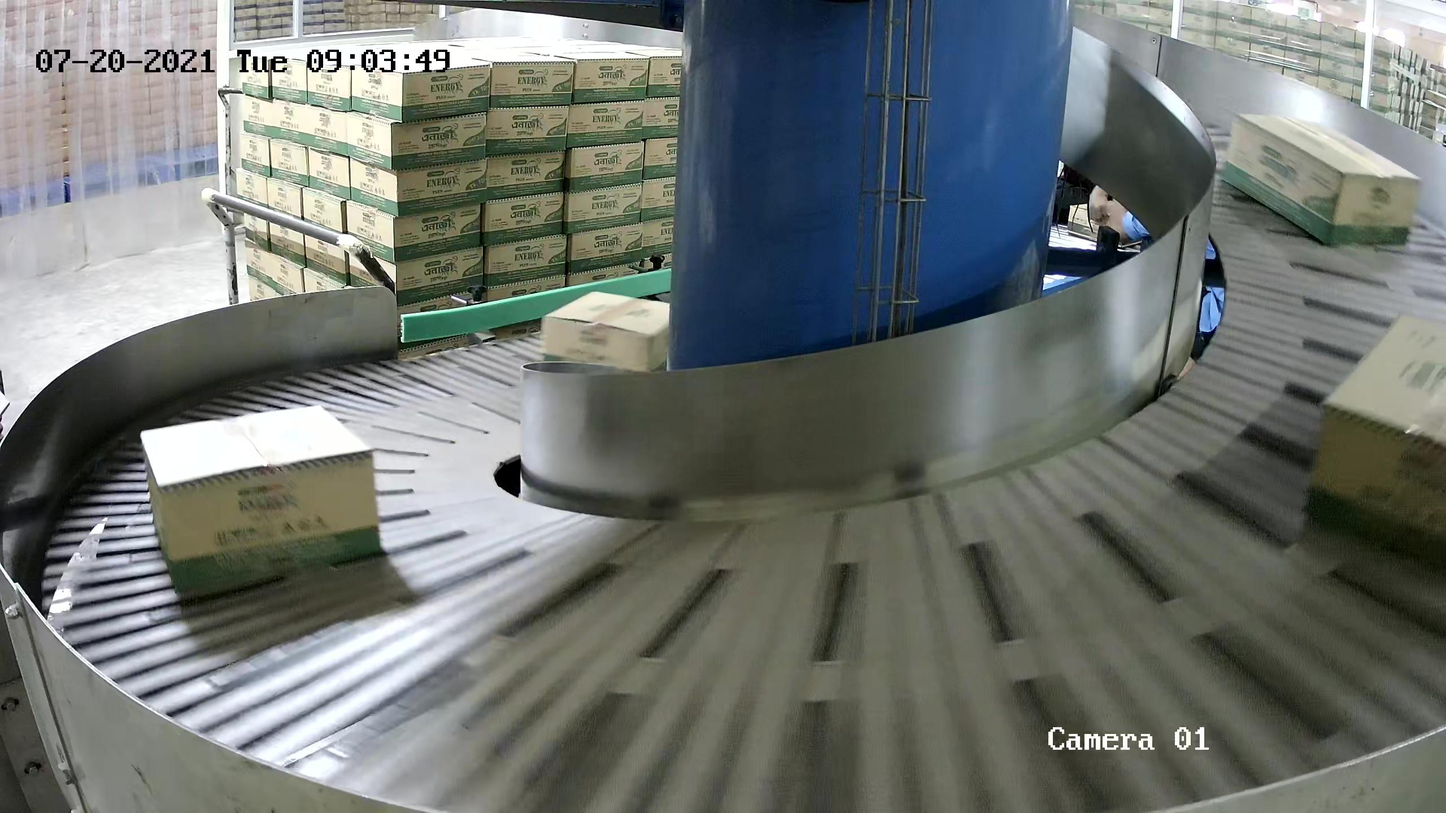Box: (141, 405, 389, 607), (1298, 306, 1446, 578), (1217, 110, 1424, 264), (540, 291, 687, 392)
